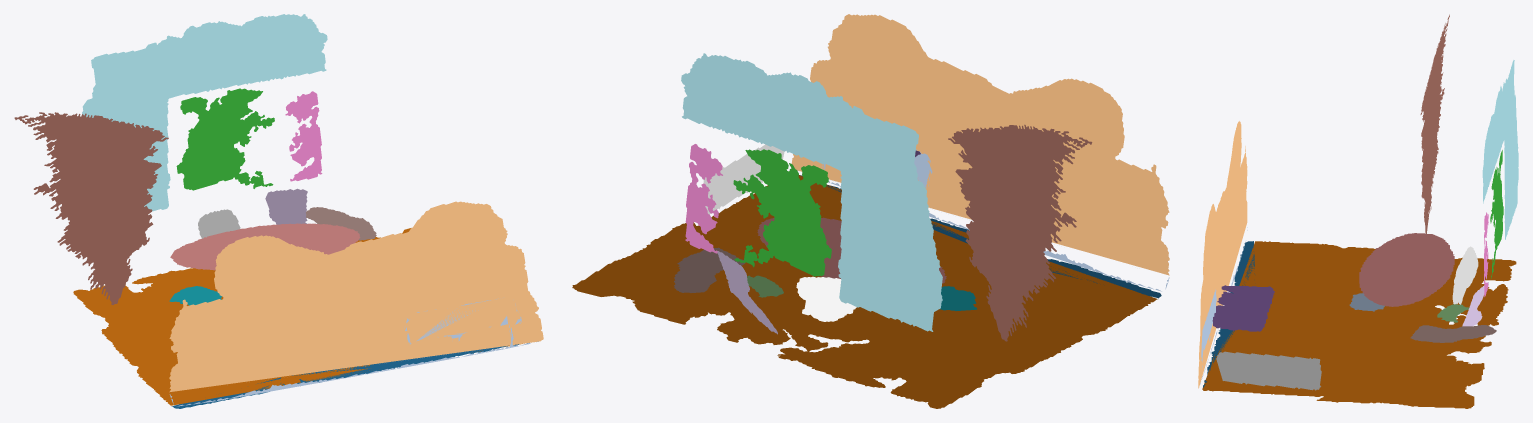
Rendered from ours.glb.
3 renders of one model, left to right at view 1: azimuth 30°, elevation 25°; view 2: azimuth 150°, elevation 25°; view 3: azimuth 270°, elevation 25°, orthographic. The views are drawn at different scales.
Parts seen in each view (by area): view 1: Node1; view 2: Node1; view 3: Node1.
Part boxes in pixels (box(x1,y1,x2,y2)): Node1: box(14, 14, 543, 408); Node1: box(572, 14, 1169, 408); Node1: box(1198, 14, 1518, 408).
Size of the model in its own units: 6.04 by 3.28 by 4.23.
